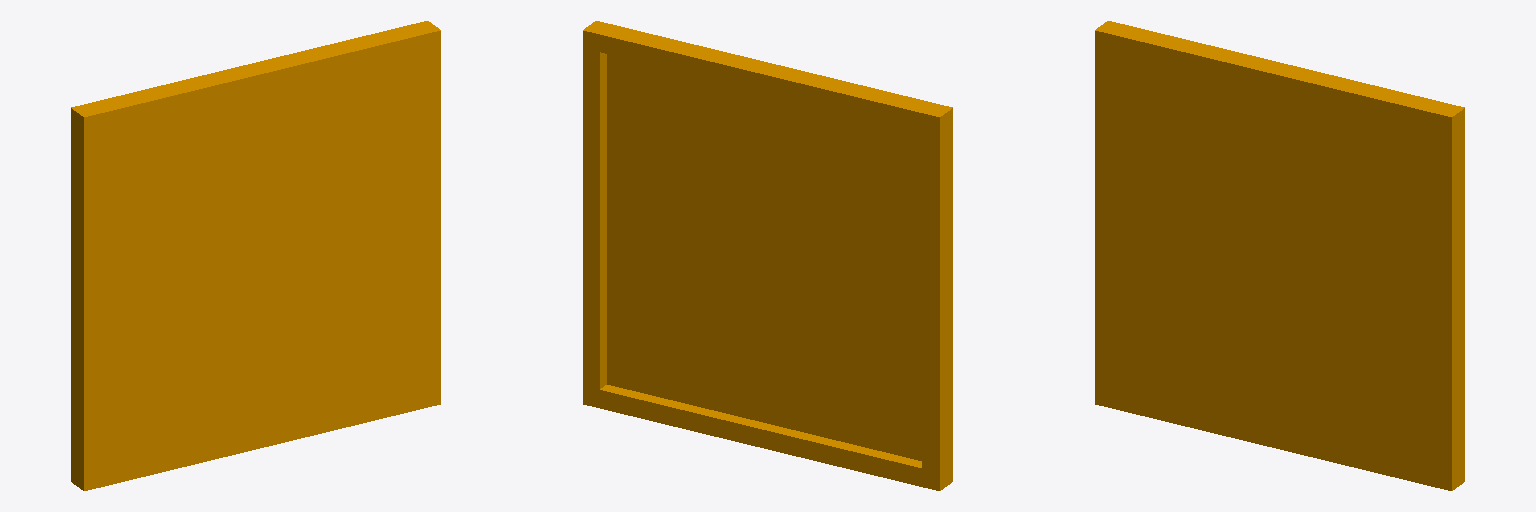
URDF robot description (chess_board):
<?xml version="1.0" ?>
<robot name="chess_board">
  <link name="link_0">
    <inertial>
      <origin xyz="0 0 0" rpy="0 0 0"/>
      <mass value="1.0"/>
      <inertia ixx="0.1" ixy="0.0" ixz="0.0" iyy="0.1" iyz="0.0" izz="0.1"/>
    </inertial>
    <visual name="visual">
      <origin xyz="0 0 0" rpy="0 0 0"/>
      <geometry>
        <mesh filename="meshes/model.obj"/>
      </geometry>
    </visual>
    <collision name="collision_0">
      <origin xyz="0 0 0" rpy="0 0 0"/>
      <geometry>
        <mesh filename="meshes/model.obj"/>
      </geometry>
    </collision>
  </link>
</robot>

--- Render facts (derived) ---
Views: 3 orthographic renders of the robot side by side, from view 1: azimuth 30°, elevation 25°; view 2: azimuth 150°, elevation 25°; view 3: azimuth 330°, elevation 25°.
Robot: chess_board — 1 links, 0 joints (none); root link link_0; default pose: every joint at zero.
Links seen in each view (by area): view 1: link_0; view 2: link_0; view 3: link_0.
Link boxes in pixels (x1,y1,x2,y2): link_0: (71, 21, 440, 490); link_0: (583, 21, 952, 490); link_0: (1095, 21, 1464, 490).
Bounding box of the posed robot: 2 × 0.1302 × 2 m (x, y, z).
Meshes: 1 distinct files referenced, 1 mesh visuals loaded (1 OBJ).